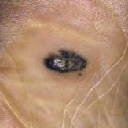Melanoma: (44, 47, 91, 78)
